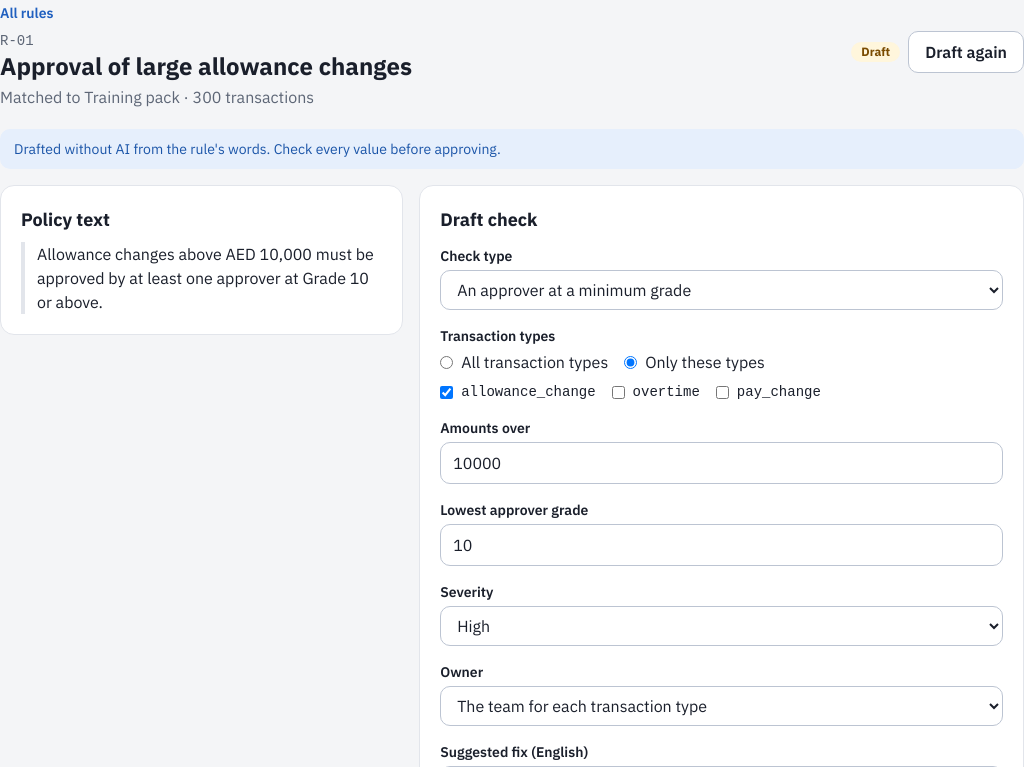
RulePage › drafts the rule again after asking
This screenshot has width=1024, height=767.
Click the button "Draft again" at (966, 52), box [908,31,1023,73]
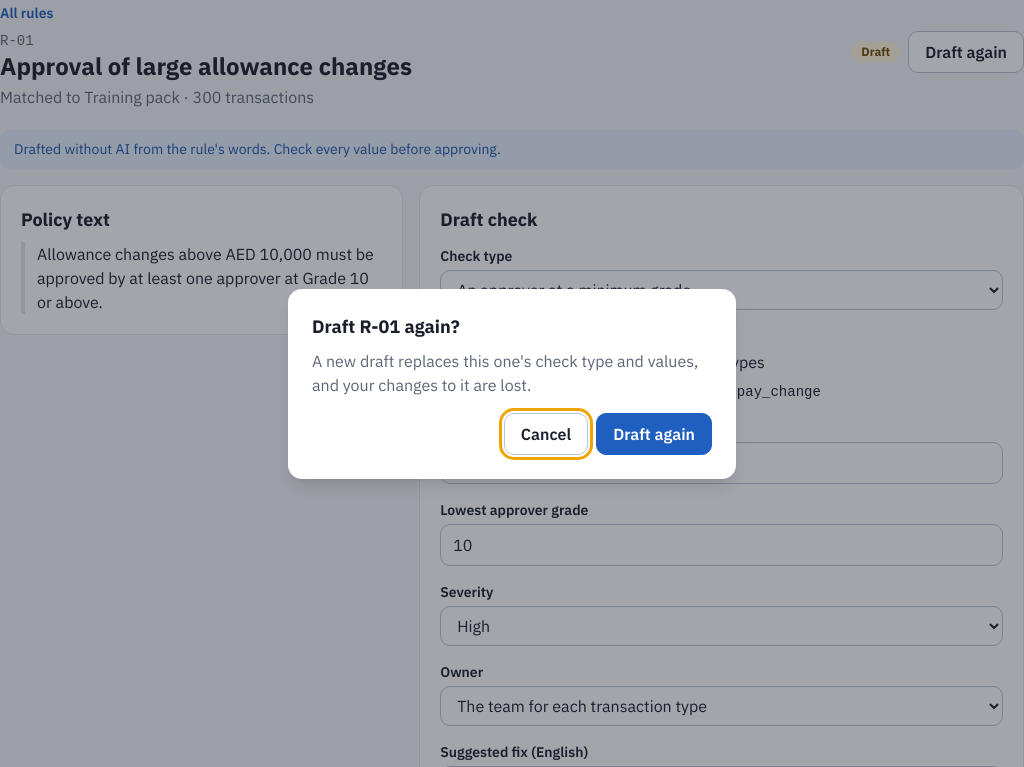
Expected: the dialog shows "Draft R-01 again?", [312,315,460,338]
Click the button "Draft again" at (654, 434), box [596,413,712,455]
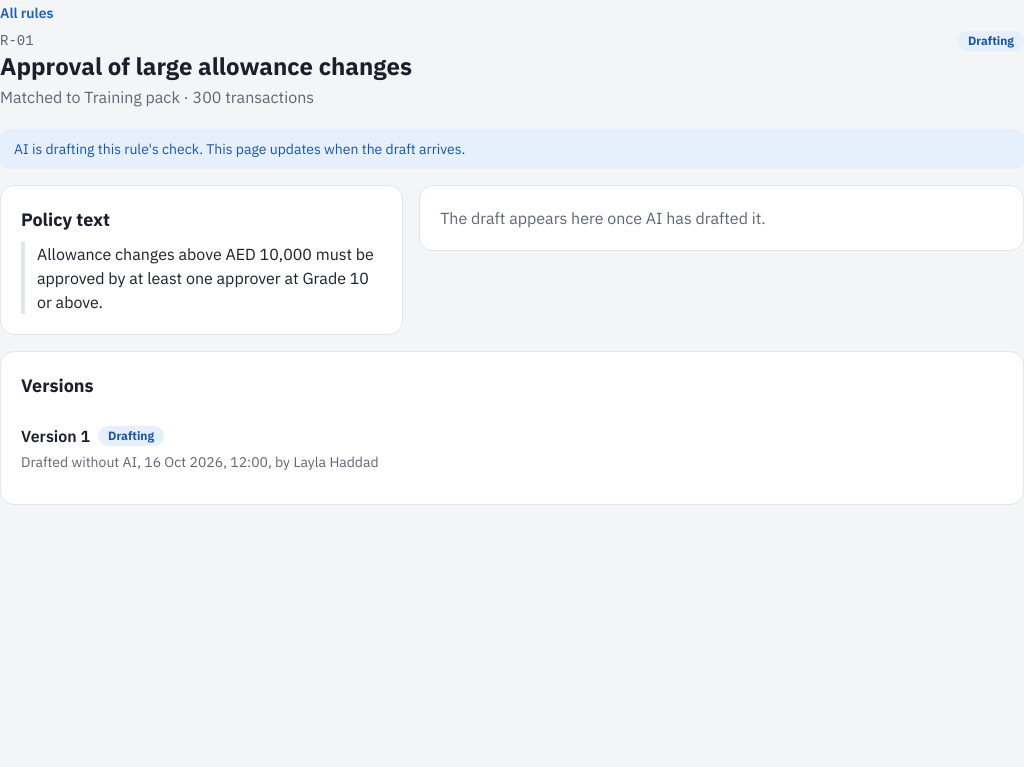
Expected: the text "AI is drafting this rule's check. This page updates when the draft arrives." is shown, [0,129,1023,169]
